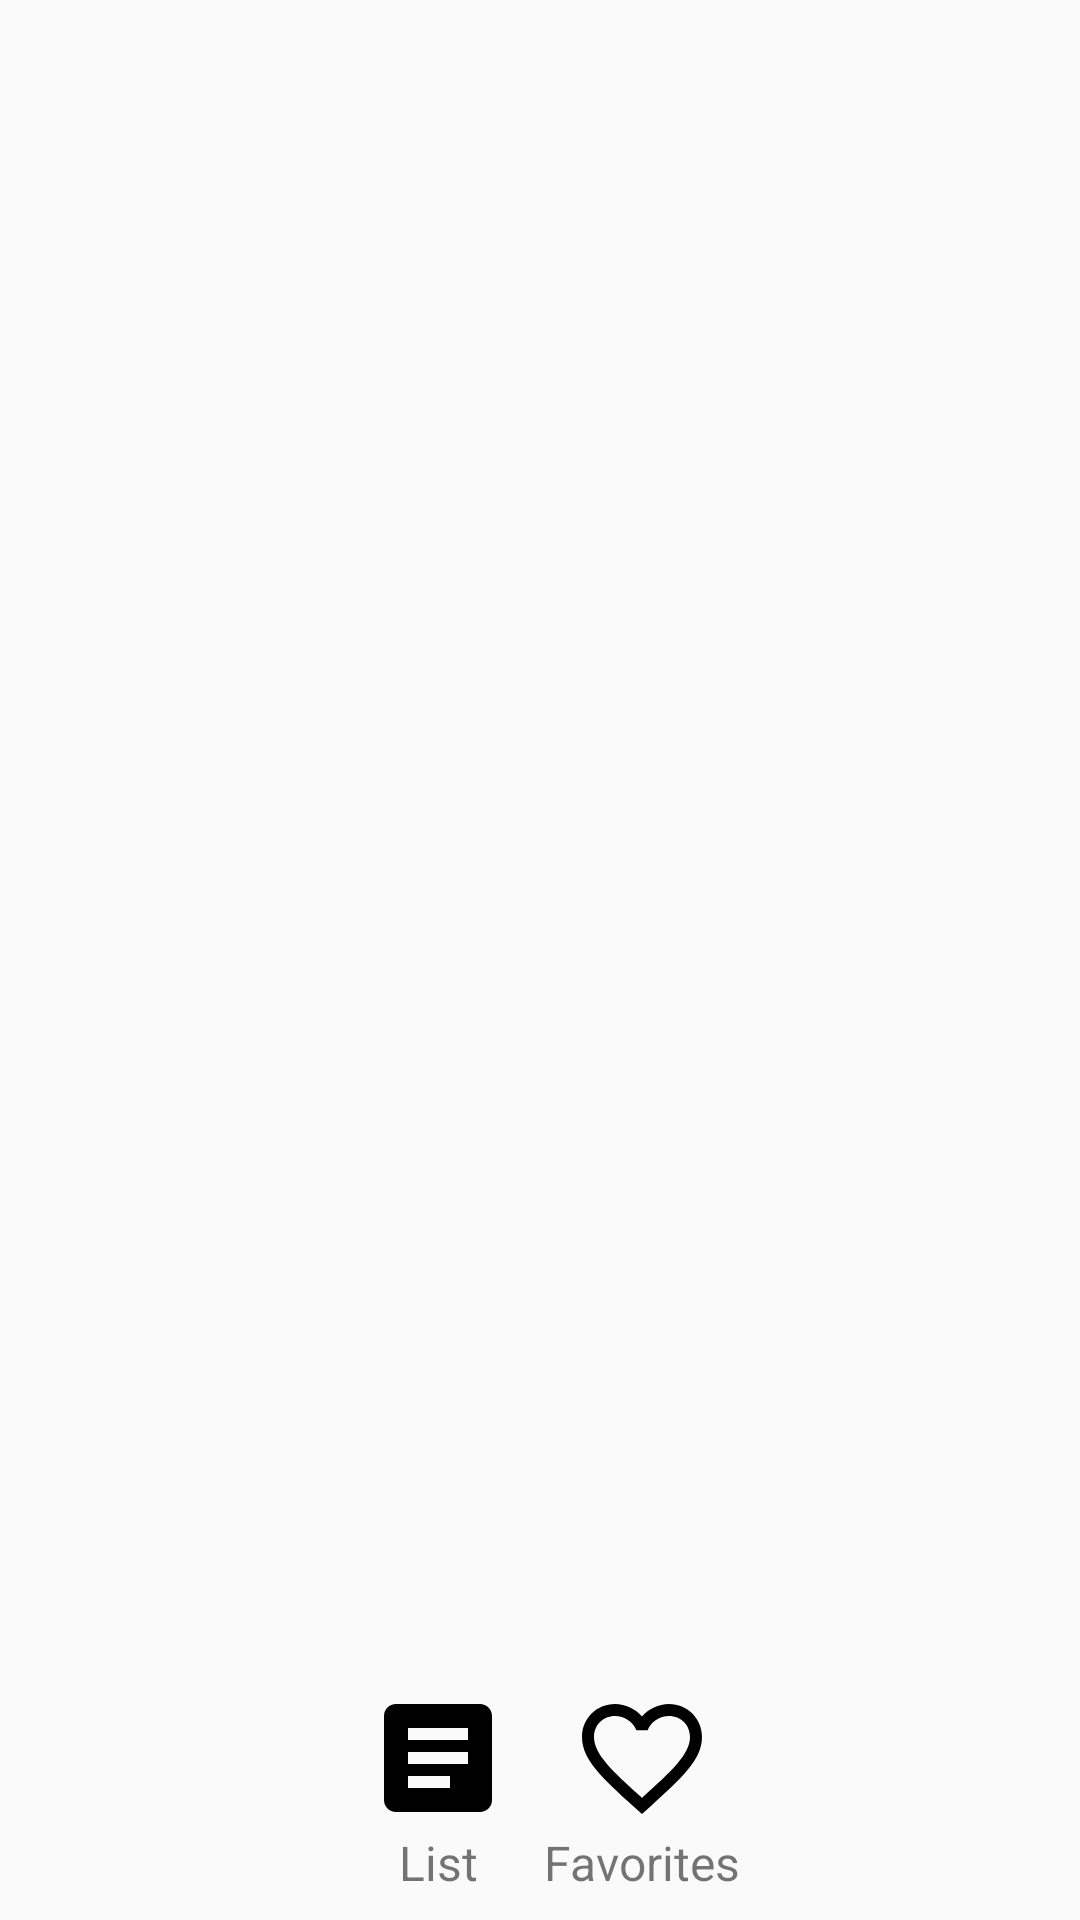

Screen size 1080 × 1920. Icon name, then its center in pixels as (x,y):
article: (438,1758)
